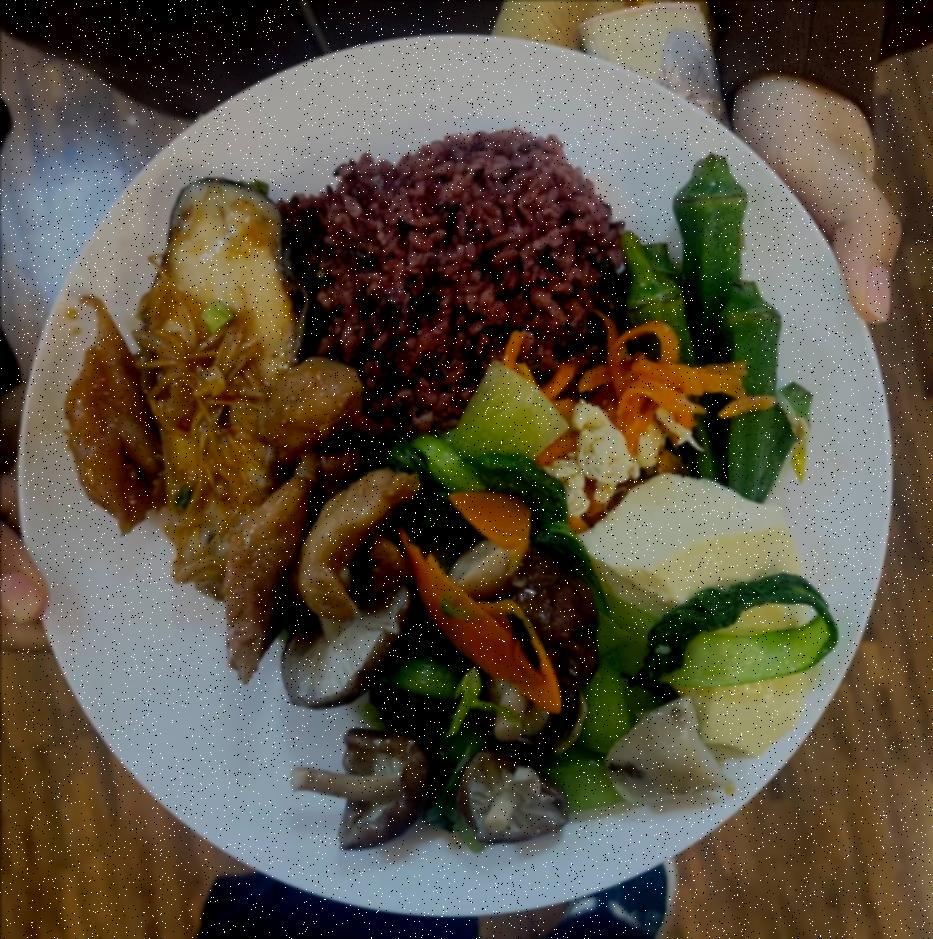braised fish: (140, 172, 310, 604)
plate: (24, 15, 902, 918)
purple rice: (292, 114, 632, 428)
side dish: (380, 392, 821, 826), (290, 484, 586, 866), (584, 462, 817, 755), (613, 148, 790, 500)
three cup chicken: (222, 346, 404, 670), (62, 304, 166, 528)
